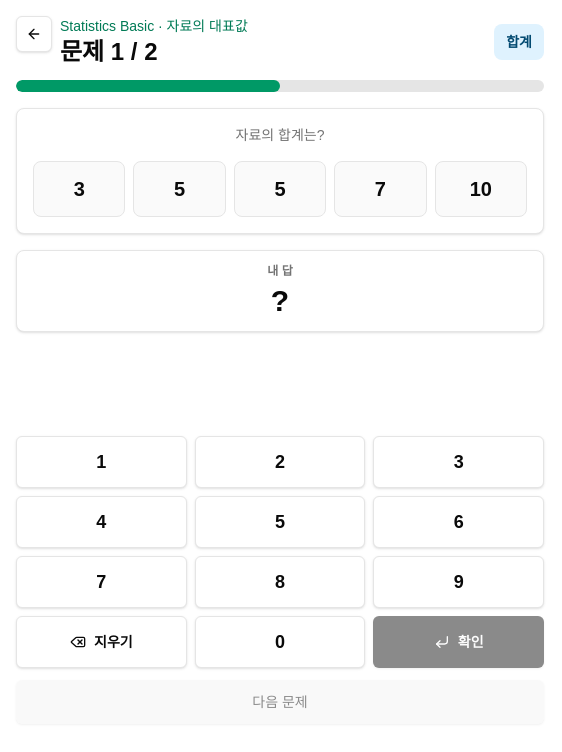
Test: StatisticsLearning › shows correct feedback after a correct answer
Click the button named "3 입력".
click(459, 462)  # box [373,436,544,488]
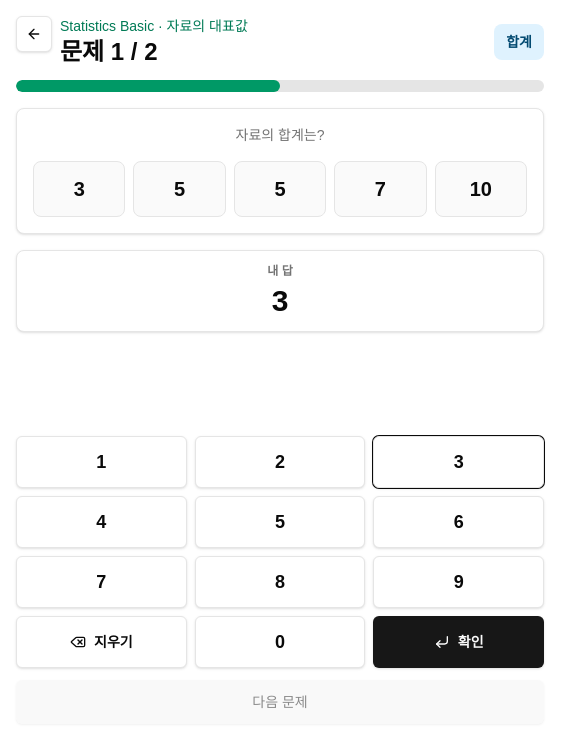
Click the button named "0 입력".
click(280, 642)  # box [195,616,365,668]
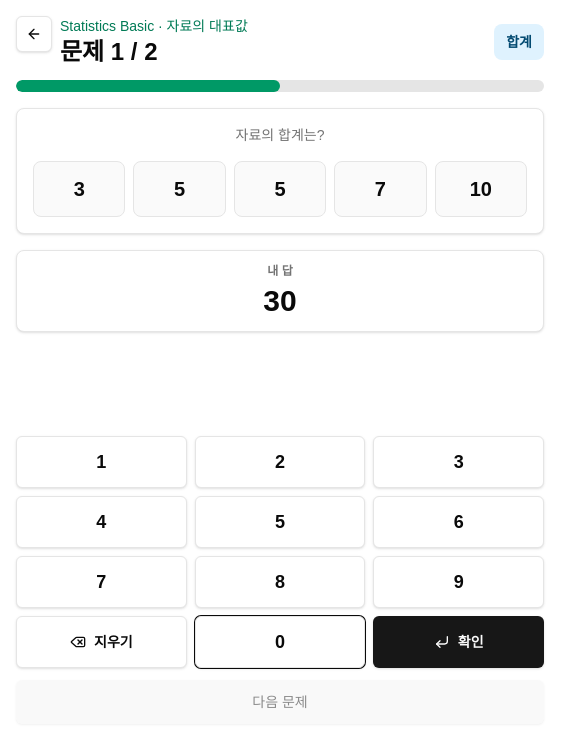
Click the button with aria-label "정답 확인".
click(459, 642)  # box [373,616,544,668]
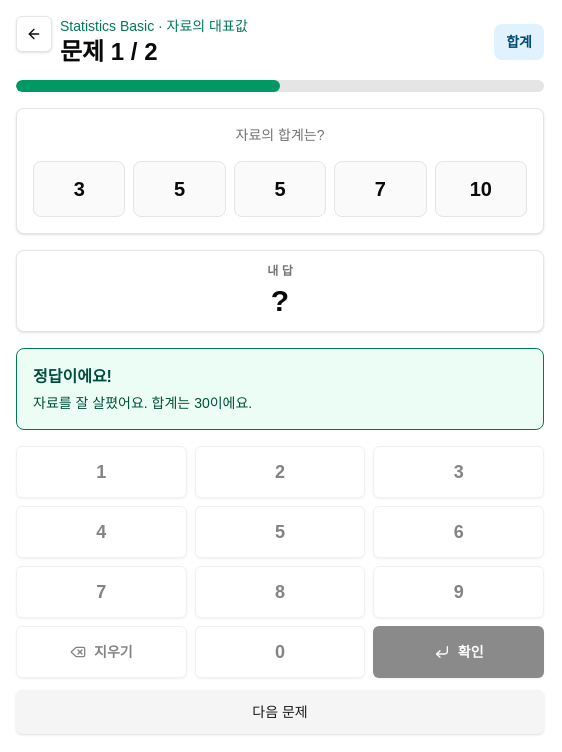
Now the text "정답이에요!" is shown, box [33,368,112,385]
Now the text "자료를 잘 살폈어요. 합계는 30이에요." is shown, box [33,395,252,411]
Now the button "다음 문제" is enabled, box [16,690,544,734]
